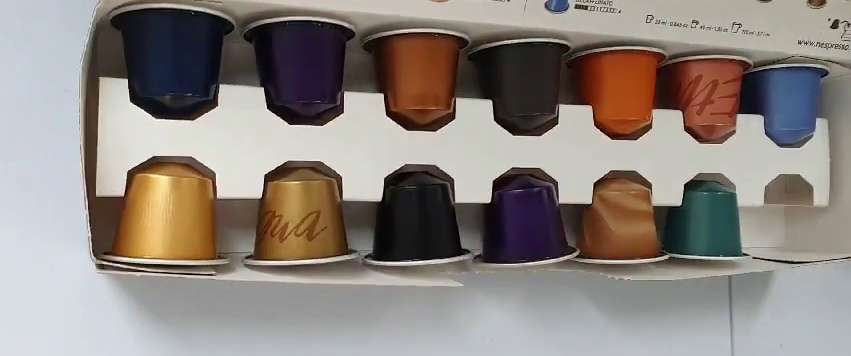capsule_1: (102, 2, 232, 118)
capsule_10: (355, 164, 475, 267)
capsule_11: (466, 166, 579, 269)
capsule_12: (570, 174, 672, 268)
capsule_13: (659, 176, 751, 264)
capsule_2: (237, 11, 361, 123)
capsule_3: (364, 26, 468, 125)
capsule_4: (472, 36, 576, 132)
capsule_5: (564, 39, 671, 137)
capsule_6: (661, 53, 757, 142)
capsule_7: (741, 61, 831, 144)
capsule_8: (95, 157, 231, 273)
capsule_9: (243, 160, 360, 268)
